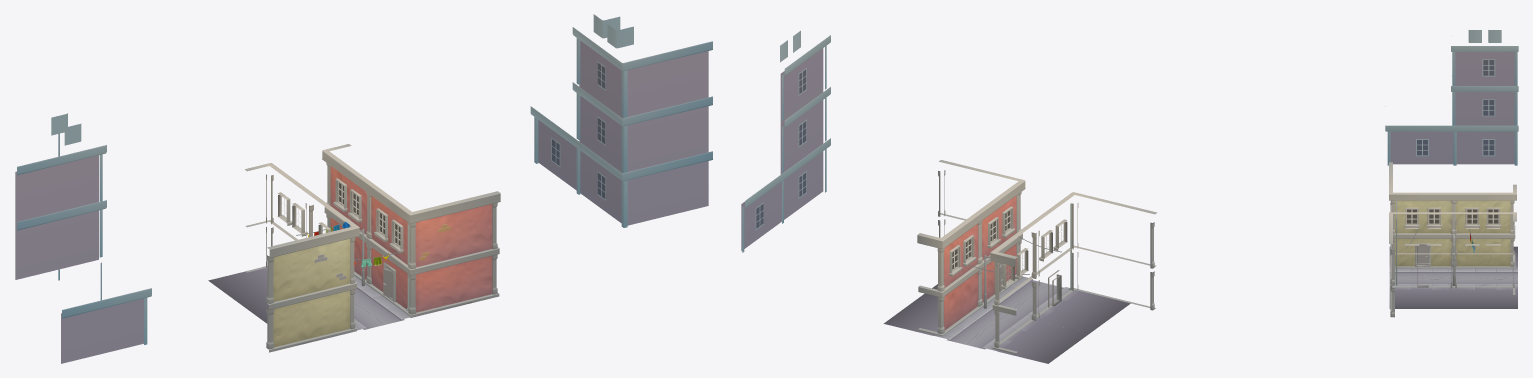
The model's file is UrbanBuilding04.prefab.glb.
The picture shows the model from 3 angles, left to right: view 1: azimuth 30°, elevation 25°; view 2: azimuth 150°, elevation 25°; view 3: azimuth 270°, elevation 25°; orthographic projection. The views are drawn at different scales.
Visible parts, largest first — view 1: FarBackBuilding02, Apartments01, Apartments04, UrbanBuilding04, Road02; view 2: FarBackBuilding02, Apartments01, Road02, Apartments04, UrbanBuilding04; view 3: FarBackBuilding02, Apartments04, Road02, UrbanBuilding04, Apartments01.
Part boxes in pixels (x1,y1,x2,y2): FarBackBuilding02: (15,14,712,363); Apartments01: (322,144,500,317); Apartments04: (245,163,359,352); UrbanBuilding04: (253,285,471,345); Road02: (208,266,366,312); FarBackBuilding02: (741,30,830,252); Apartments01: (917,160,1025,336); Road02: (883,293,1089,363); Apartments04: (990,192,1156,354); UrbanBuilding04: (932,276,1130,333); FarBackBuilding02: (1385,30,1518,165); Apartments04: (1389,162,1516,268); Road02: (1453,246,1517,308); UrbanBuilding04: (1389,247,1453,308); Apartments01: (1389,212,1516,317).
Size of the model in its own units: 76.34 by 26.28 by 18.69.
3 materials, 2 textured.
